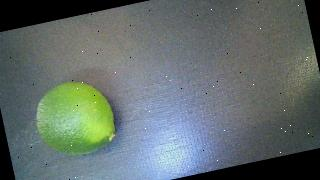EXPORTACION: (30, 74, 121, 163)
